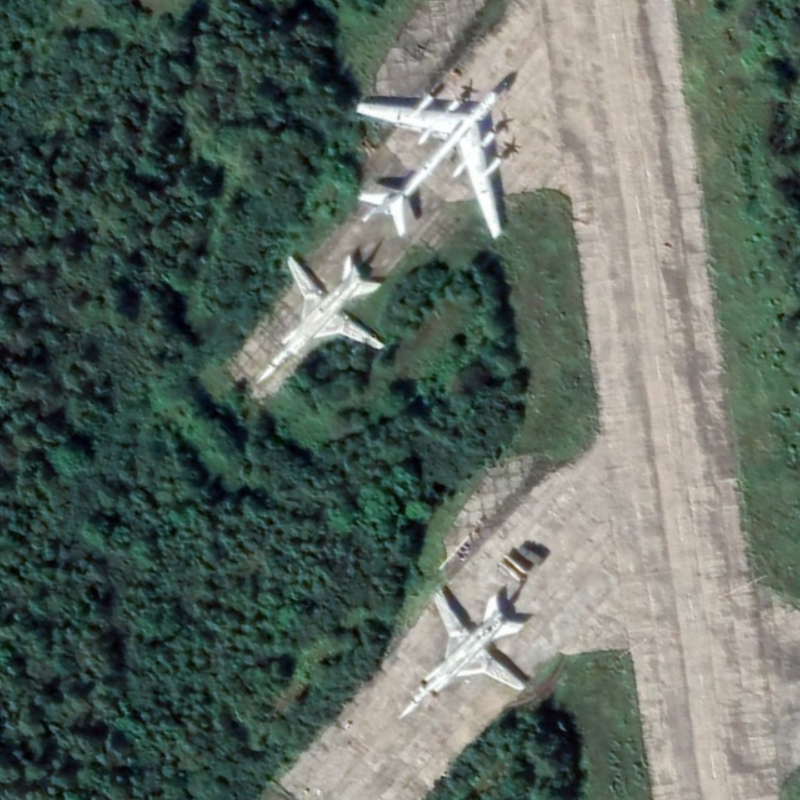A12: (249, 250, 388, 389), (394, 586, 529, 725)
A17: (351, 77, 512, 244)
